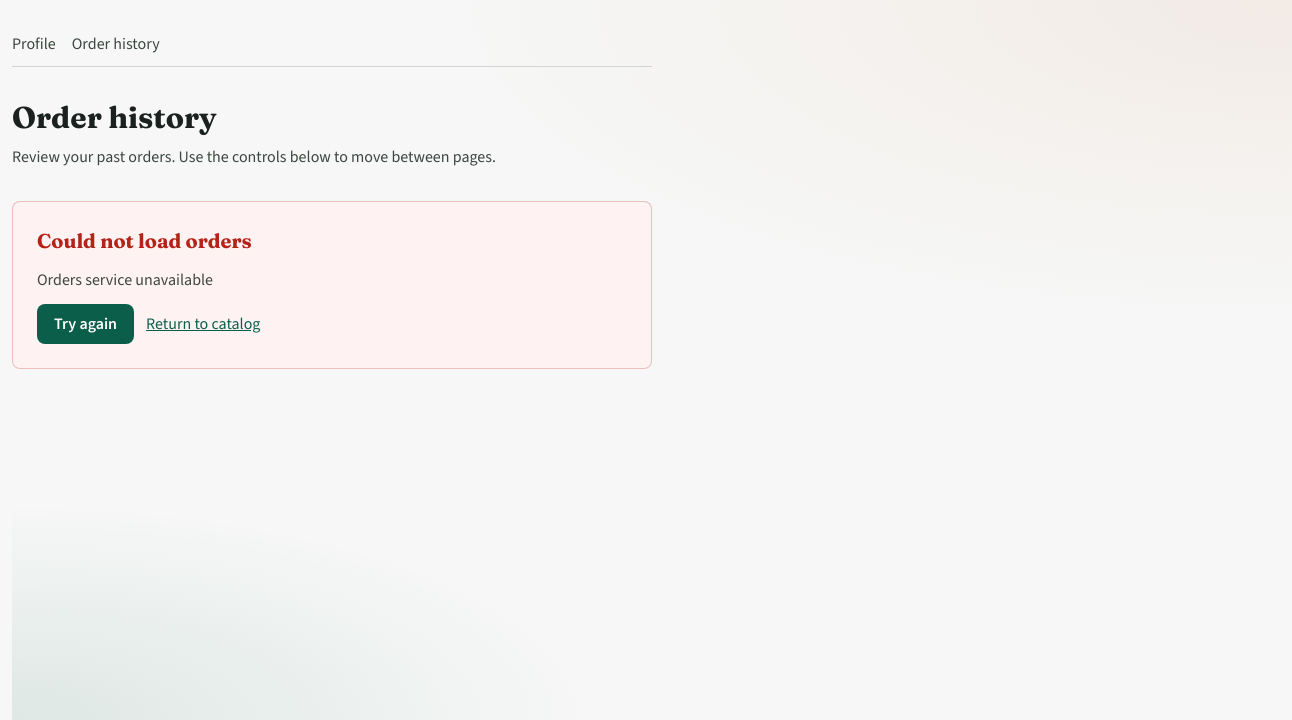
OrderHistoryPage › shows an API error state with retry
Expected: the message shows "Could not load orders", top-left (37, 228), bottom-right (252, 252)
Click the button "Try again" at (86, 324), box top-left (37, 304), bottom-right (134, 344)
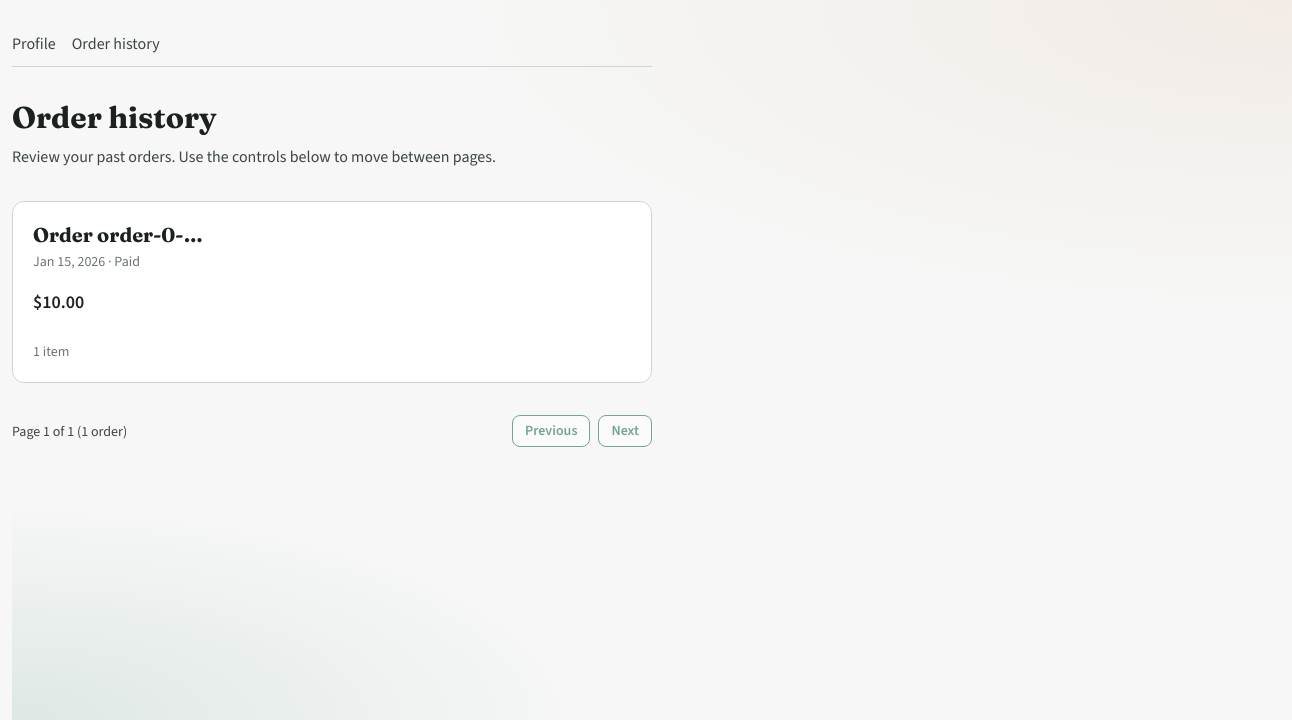
Expected: the list named "past orders" is shown, top-left (12, 200), bottom-right (652, 383)
